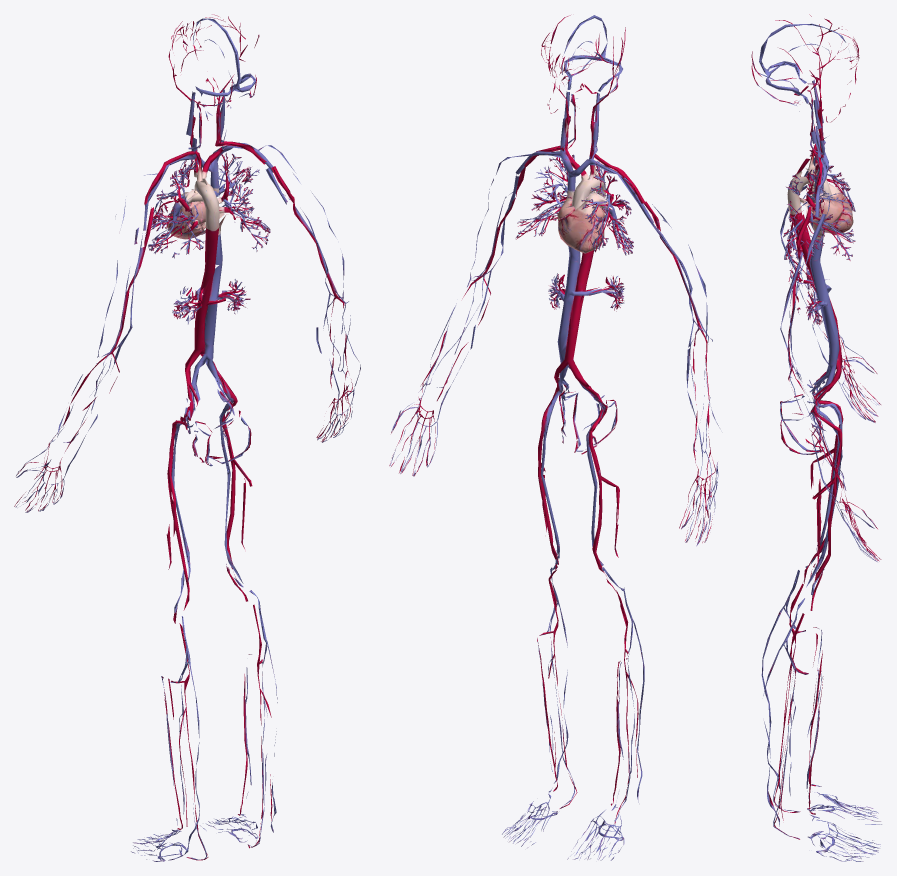
Rendered from circulatory-system.mobile.glb.
3 renders of one model, left to right at view 1: azimuth 30°, elevation 25°; view 2: azimuth 150°, elevation 25°; view 3: azimuth 270°, elevation 25°, orthographic. The views are drawn at different scales.
Parts seen in each view (by area): view 1: circulatory_system_0; view 2: circulatory_system_0; view 3: circulatory_system_0.
Part boxes in pixels (x1=…): circulatory_system_0: x1=14, y1=14, x2=360, y2=861; circulatory_system_0: x1=389, y1=15, x2=719, y2=860; circulatory_system_0: x1=751, y1=14, x2=881, y2=861.
Size of the model in its own units: 23903 by 57996 by 8475.
Materials: 1 (1 with a texture image).
